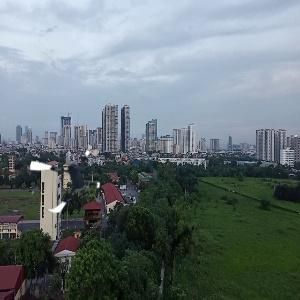drone: (28, 143, 102, 217)
